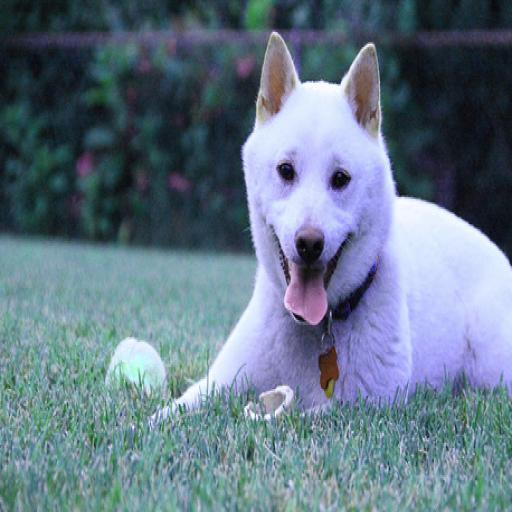dog_face: (242, 26, 378, 309)
